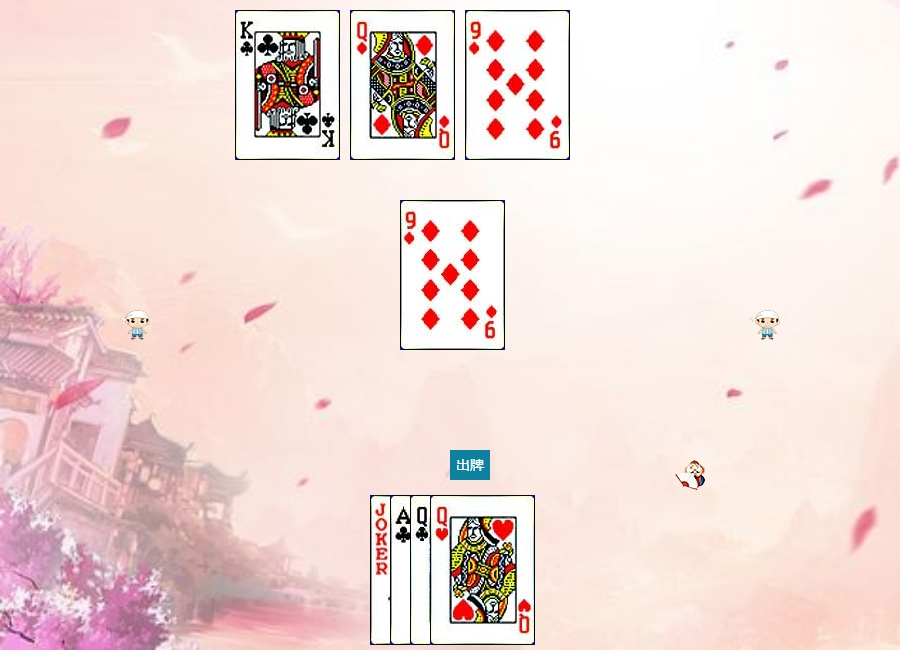12~1: (350, 10, 455, 160)
12~2: (410, 495, 515, 645)
12~3: (430, 495, 535, 645)
13~2: (235, 10, 340, 160)
14~2: (390, 495, 495, 645)
18~4: (370, 495, 475, 645)
9~1: (465, 10, 570, 160), (400, 200, 505, 350)
